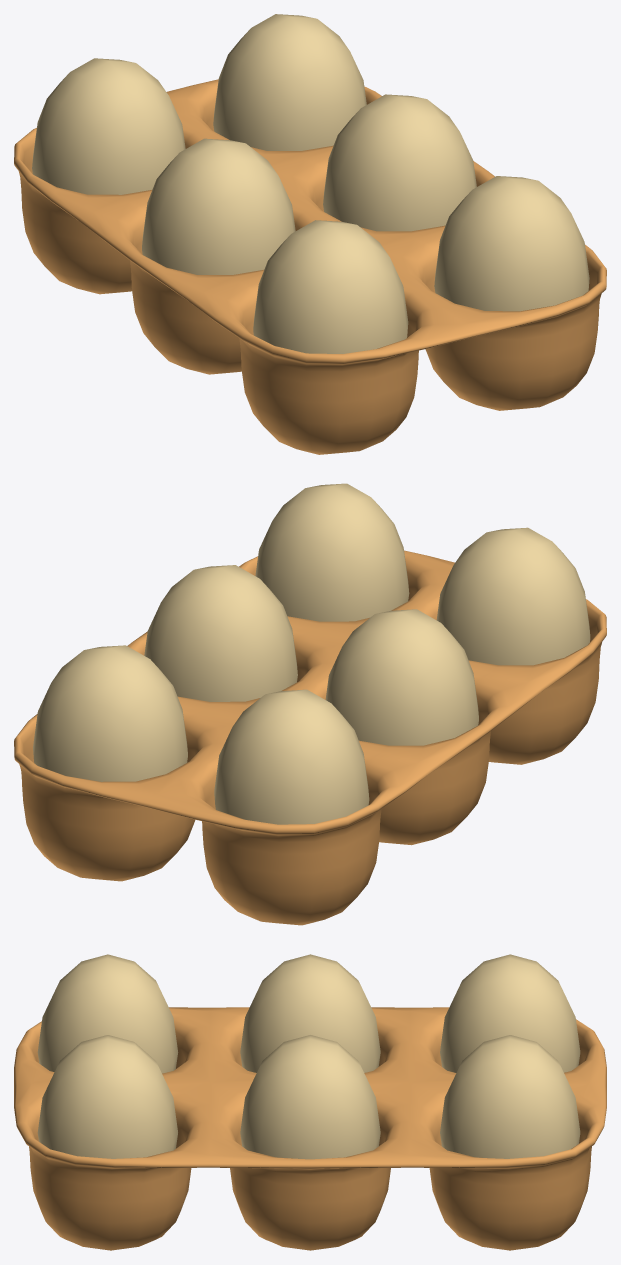
File: jajka.fbx
3 views of the same model, one above another, from view 1: azimuth 30°, elevation 25°; view 2: azimuth 150°, elevation 25°; view 3: azimuth 270°, elevation 25° (orthographic). The views are drawn at different scales.
Parts seen in each view (by area): view 1: Plane, Cube.057, Cube.058, Cube.053, Cube.054, Cube.055, Cube.056; view 2: Plane, Cube.055, Cube.056, Cube.057, Cube.058, Cube.053, Cube.054; view 3: Plane, Cube.053, Cube.055, Cube.057, Cube.054, Cube.056, Cube.058.
Part boxes in pixels (x1,y1,x2,y2): Plane: (14, 79, 606, 454); Cube.057: (434, 176, 589, 311); Cube.058: (253, 220, 408, 353); Cube.053: (323, 94, 476, 231); Cube.054: (142, 138, 295, 274); Cube.055: (213, 14, 366, 150); Cube.056: (32, 58, 185, 194); Plane: (14, 550, 606, 925); Cube.055: (33, 645, 187, 781); Cube.056: (214, 689, 369, 824); Cube.057: (255, 483, 409, 621); Cube.058: (436, 527, 590, 665); Cube.053: (144, 565, 297, 701); Cube.054: (325, 609, 478, 745); Plane: (14, 1007, 606, 1250); Cube.053: (240, 1035, 380, 1159); Cube.055: (440, 1035, 580, 1158); Cube.057: (37, 1035, 177, 1158); Cube.054: (240, 954, 380, 1072); Cube.056: (440, 954, 580, 1072); Cube.058: (37, 954, 178, 1073).
Size of the model in its own units: 164 by 97.3 by 258.
